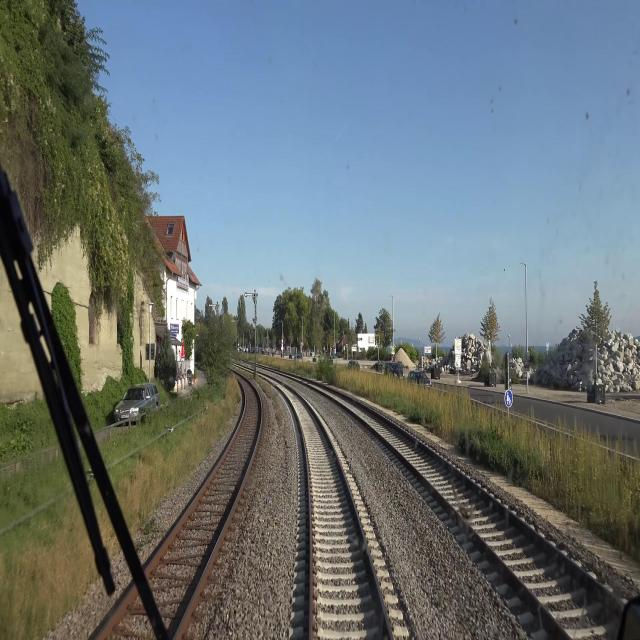rail-track: (330, 392, 640, 639), (149, 378, 259, 632), (285, 388, 388, 639)
